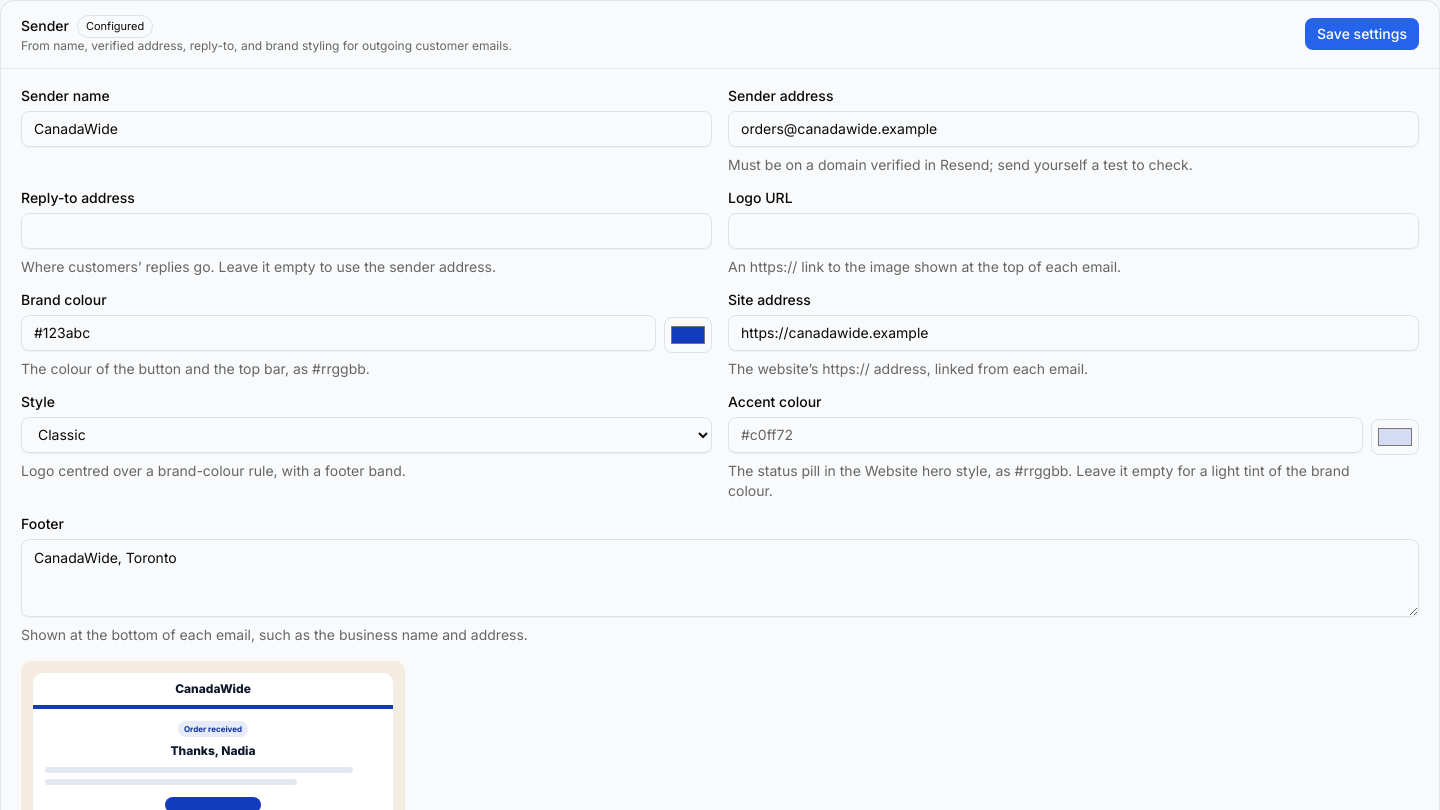
Test: EmailSettings form › explains a sender address and refuses a malformed colour
The image size is (1440, 810).
Expected: the text "Must be on a domain verified in Resend; send yourself a test to check." is shown, [728, 156, 1193, 172]
Replace the text in the field labelled "Brand colour" with "red". click: (338, 332)
box: [21, 314, 656, 350]
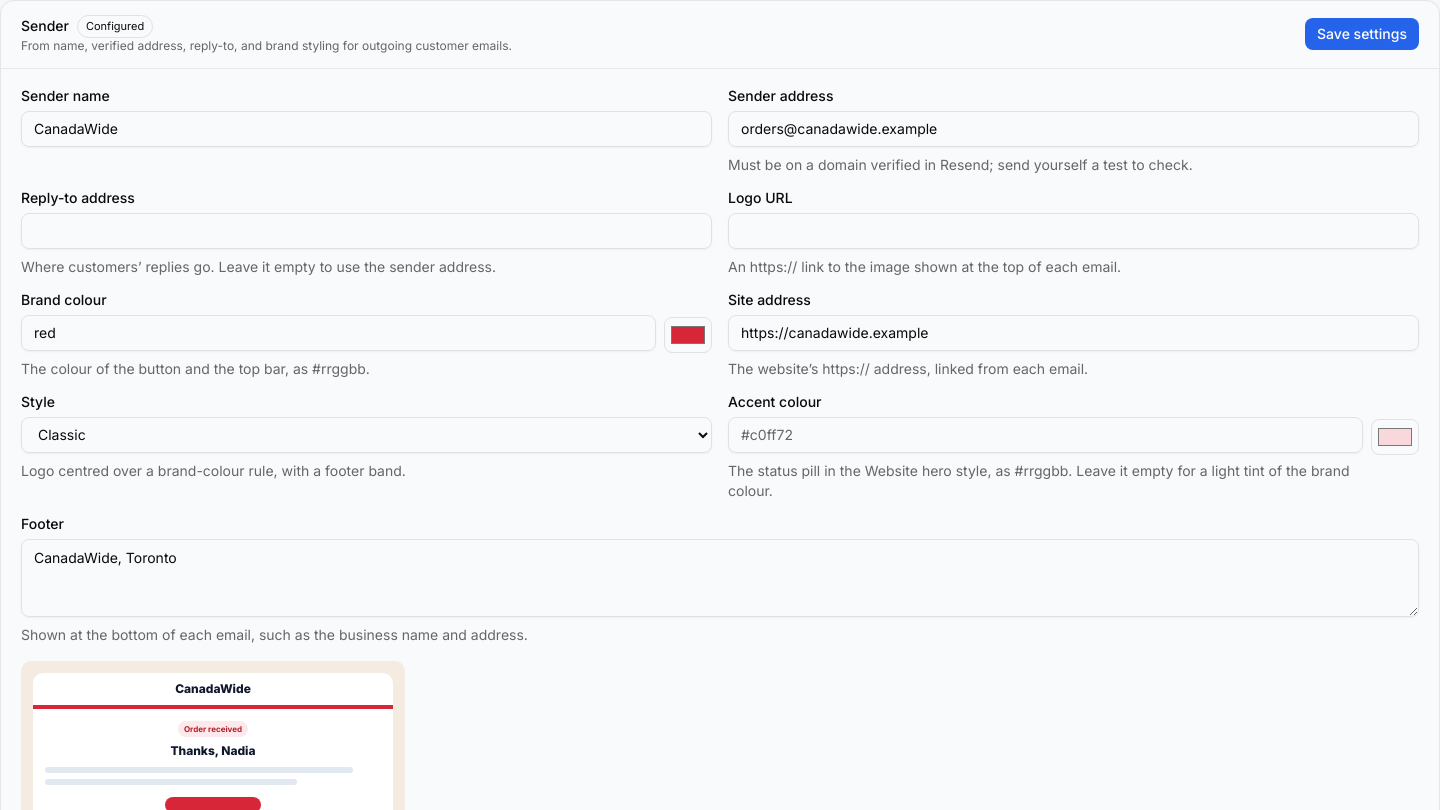
Click the button "Save settings". click: (1362, 34)
box: [1305, 18, 1419, 50]
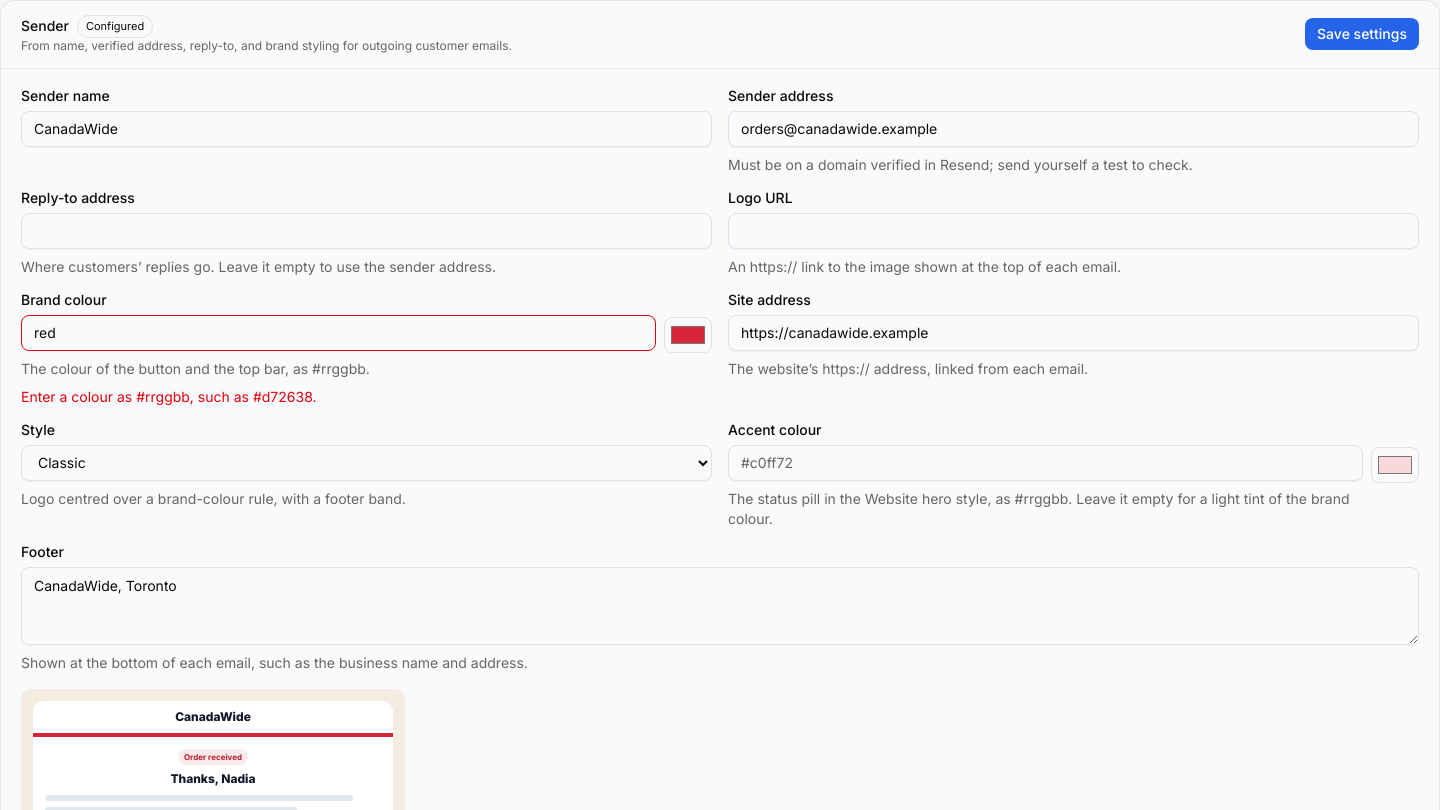
Expected: the text "Enter a colour as #rrggbb, such as #d72638." is shown, [21, 388, 316, 404]
